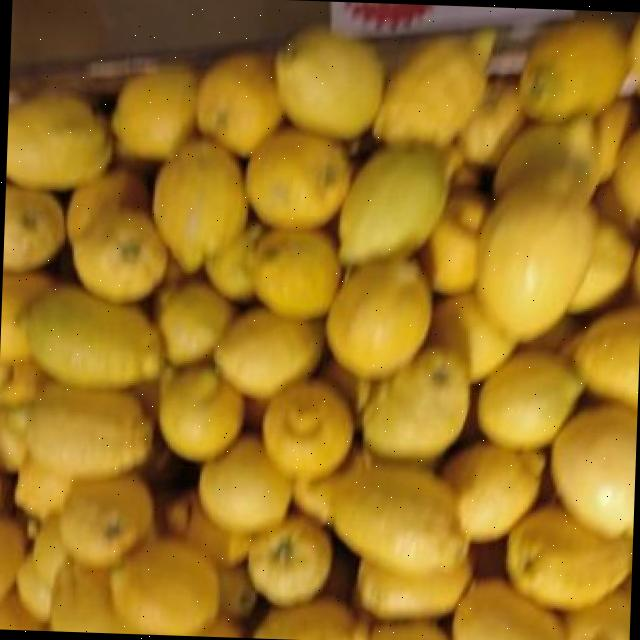lemon: (475, 188, 595, 340), (330, 457, 467, 574), (372, 28, 494, 147), (26, 285, 161, 388), (505, 503, 629, 609), (66, 170, 165, 302), (337, 145, 446, 264), (327, 257, 430, 377), (152, 139, 246, 270), (26, 382, 151, 480), (363, 347, 468, 459), (274, 29, 383, 136), (550, 403, 637, 537), (518, 18, 625, 122), (108, 538, 217, 634), (477, 350, 582, 449), (244, 127, 349, 226), (441, 441, 543, 541), (212, 307, 322, 398), (5, 95, 109, 187), (261, 378, 352, 479), (198, 434, 290, 533), (493, 115, 595, 203), (195, 52, 281, 155), (71, 209, 166, 302), (58, 474, 150, 566), (158, 364, 241, 460), (252, 228, 339, 318), (110, 67, 195, 157), (246, 515, 330, 605), (428, 293, 513, 381), (571, 304, 640, 409), (356, 558, 470, 619), (452, 578, 564, 640), (156, 279, 231, 365), (567, 220, 633, 312), (459, 76, 522, 164), (50, 561, 126, 633), (2, 185, 63, 269), (16, 516, 65, 620), (0, 272, 51, 363), (204, 221, 262, 300), (253, 597, 354, 640), (186, 502, 250, 566), (425, 216, 477, 293), (14, 458, 72, 518), (567, 588, 631, 640), (592, 181, 640, 240), (595, 98, 629, 181), (611, 127, 640, 219), (518, 314, 579, 352), (217, 565, 255, 619), (444, 185, 487, 232), (0, 360, 40, 406), (0, 518, 22, 596), (0, 406, 27, 469), (369, 619, 447, 640), (0, 589, 39, 630), (628, 17, 640, 93)
